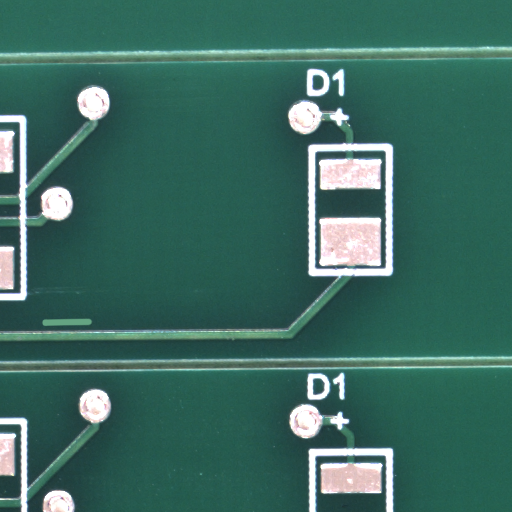Spurious_copper: (65, 321, 116, 333)
